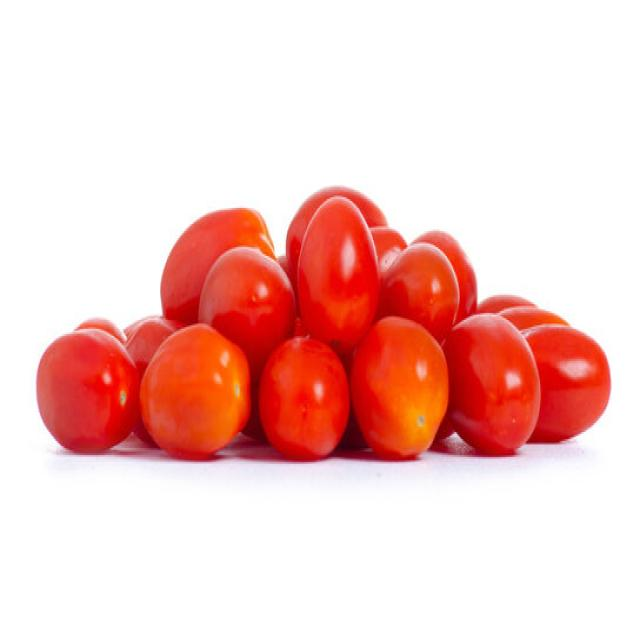Spinach: (35, 185, 611, 462)
Tomato: (138, 322, 250, 458), (350, 314, 450, 458), (442, 311, 542, 455), (159, 206, 275, 324), (295, 194, 380, 352), (35, 327, 139, 453), (198, 245, 295, 374), (258, 334, 350, 460), (520, 322, 611, 442), (285, 185, 387, 284), (378, 242, 460, 343), (409, 230, 476, 324), (122, 315, 179, 377), (368, 226, 407, 277), (498, 306, 568, 330), (74, 316, 126, 345), (476, 293, 536, 315)
